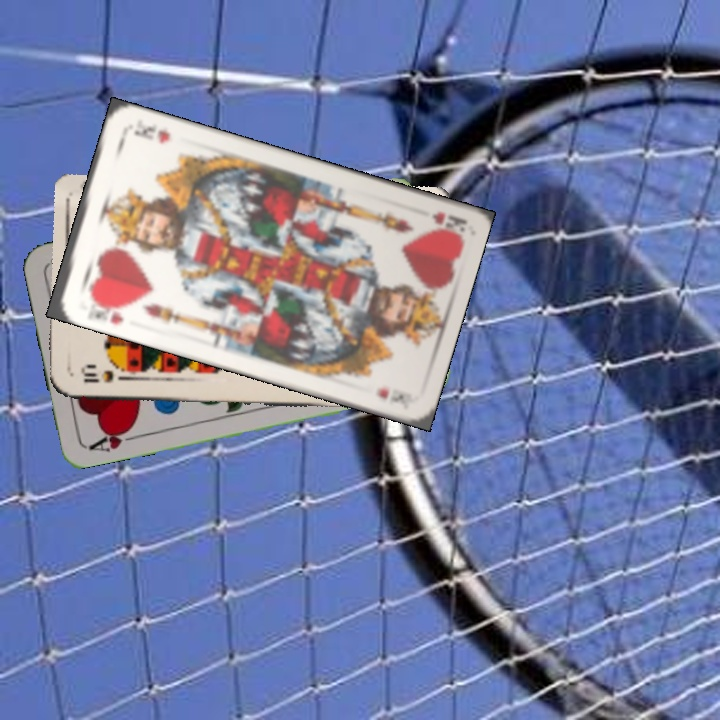HA: (84, 422, 143, 455)
HK: (86, 292, 130, 328), (427, 208, 466, 237)
S10: (77, 365, 130, 386)
